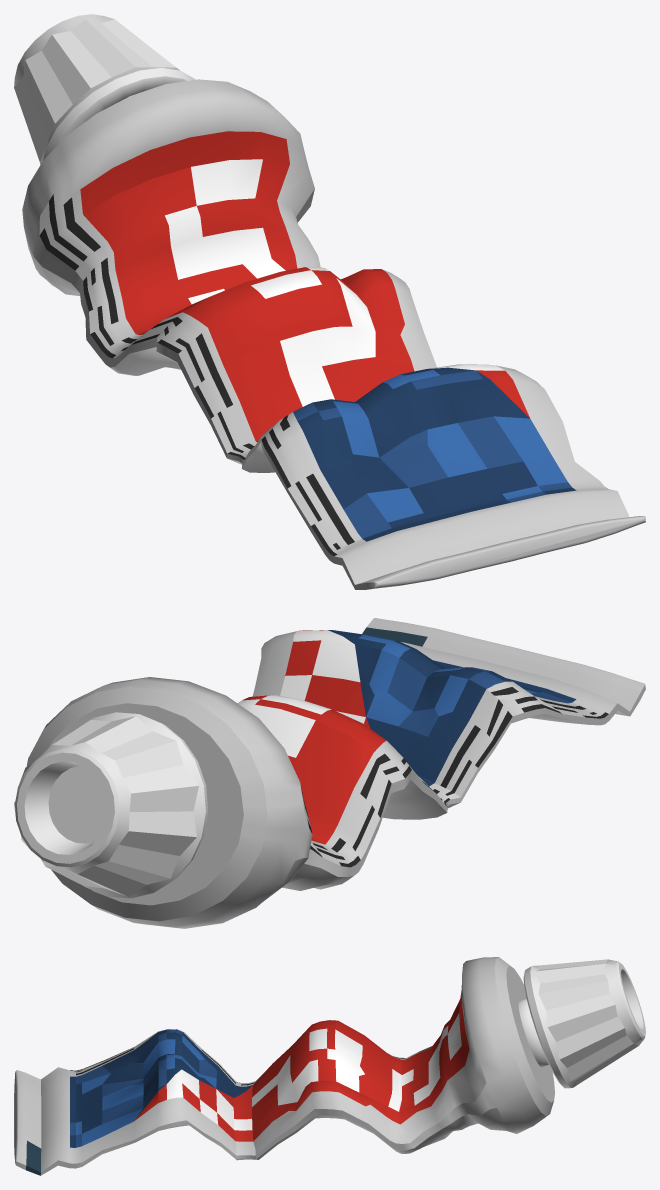
Rendered from ToothPaste.fbx.
3 renders of one model, top to bottom at view 1: azimuth 30°, elevation 25°; view 2: azimuth 150°, elevation 25°; view 3: azimuth 270°, elevation 25°, orthographic. The views are drawn at different scales.
Parts seen in each view (by area): view 1: ToothPaste; view 2: ToothPaste; view 3: ToothPaste.
Boxes of the visible parts, box(x1,y1,x2,y2) form: ToothPaste: box(14, 14, 645, 589); ToothPaste: box(14, 618, 645, 928); ToothPaste: box(14, 957, 645, 1175).
Bounding box in the file's own units: 70.58 × 60.82 × 203.
